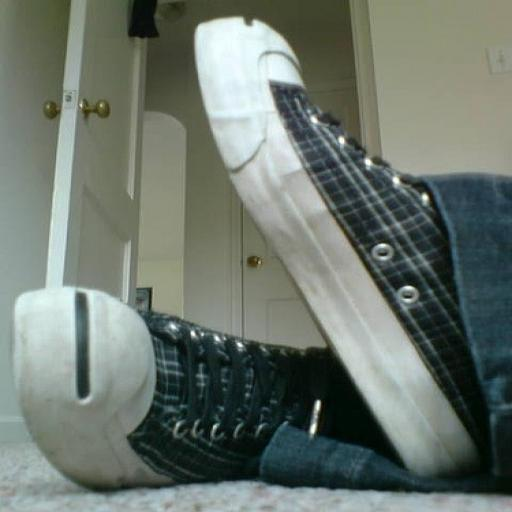shoe: (195, 18, 486, 476), (14, 288, 378, 488)
